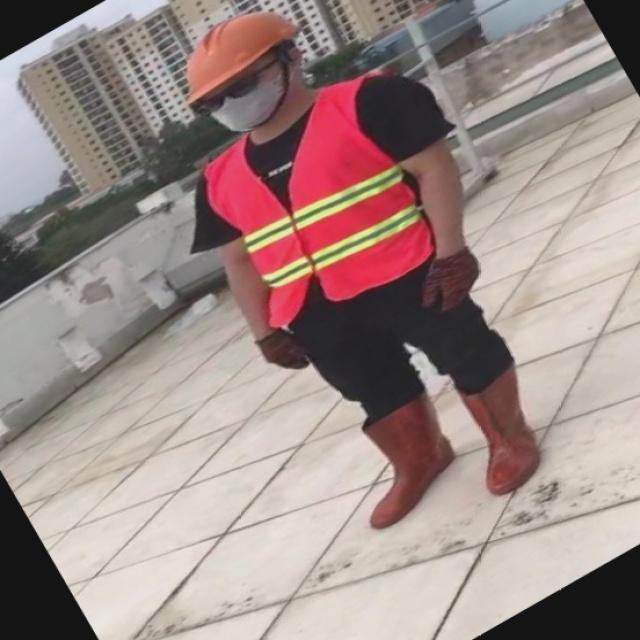helmet: (176, 10, 302, 108)
safety_vest: (189, 66, 438, 342)
